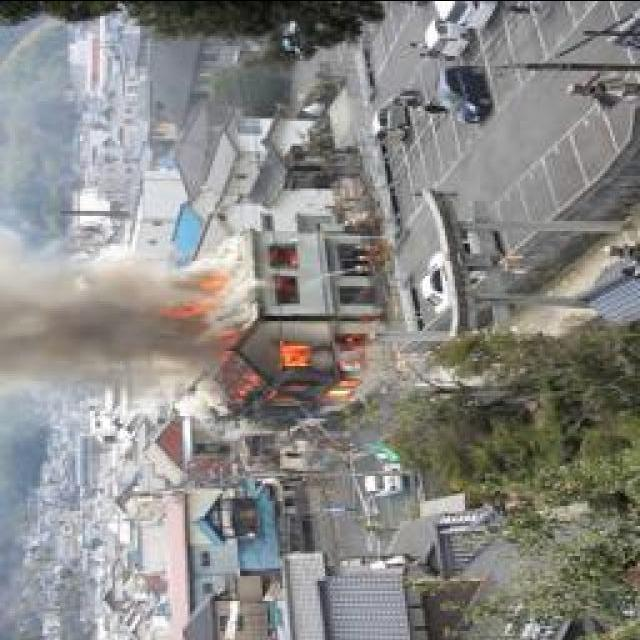Fire: (240, 328, 368, 408), (158, 274, 225, 320)
